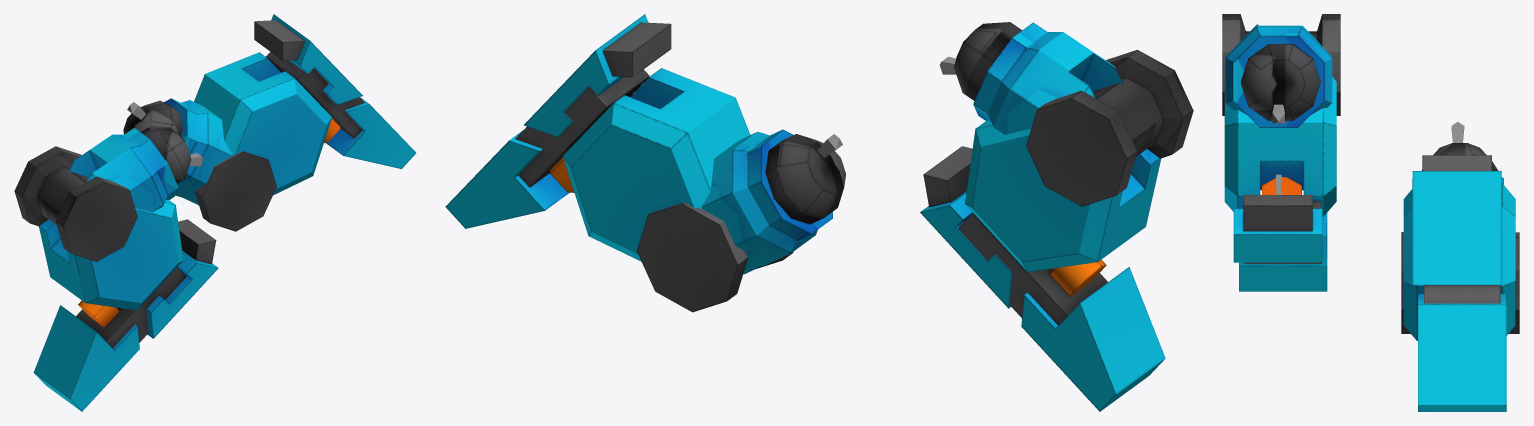
Rendered from Bottom_Running13.obj.
The picture shows the model from 3 angles, left to right: view 1: azimuth 30°, elevation 25°; view 2: azimuth 150°, elevation 25°; view 3: azimuth 270°, elevation 25°; orthographic projection. The views are drawn at different scales.
Parts seen in each view (by area): view 1: Object013, Object010, Object014, Object011, Object012, Object009; view 2: Object013, Object010, Object014, Object011, Object009, Object012; view 3: Object011, Object013, Object014, Object012, Object010, Object009.
Part boxes in pixels (<box>): Object013: <box>14,146,183,310</box>; Object010: <box>175,52,332,231</box>; Object014: <box>33,219,218,411</box>; Object011: <box>254,14,415,168</box>; Object012: <box>69,126,191,212</box>; Object009: <box>123,98,232,205</box>; Object013: <box>965,50,1193,271</box>; Object010: <box>562,68,793,312</box>; Object014: <box>920,146,1165,411</box>; Object011: <box>445,14,671,228</box>; Object009: <box>701,129,845,274</box>; Object012: <box>954,22,1123,134</box>; Object011: <box>1412,155,1506,411</box>; Object013: <box>1222,14,1340,216</box>; Object014: <box>1233,177,1327,291</box>; Object012: <box>1225,24,1332,127</box>; Object010: <box>1401,183,1519,340</box>; Object009: <box>1412,143,1503,188</box>.
Bounding box in the file's own units: 194 × 106 × 94.84.
